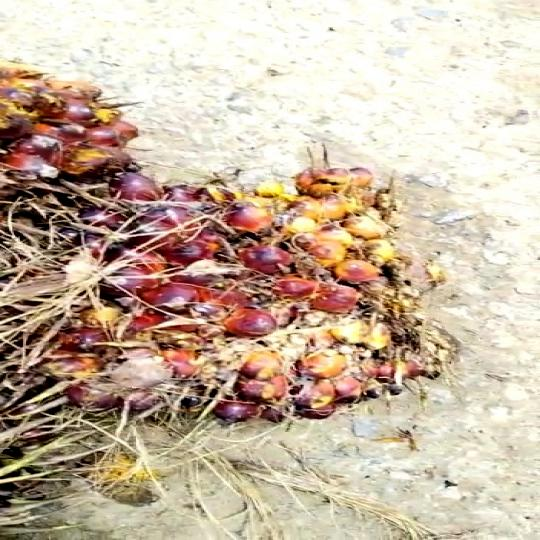masak: (0, 148, 460, 441)
